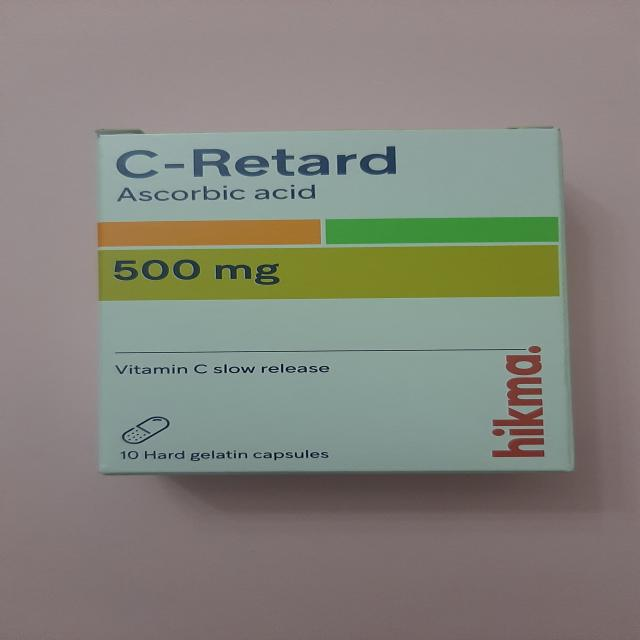C-Retard: (78, 120, 589, 517)
